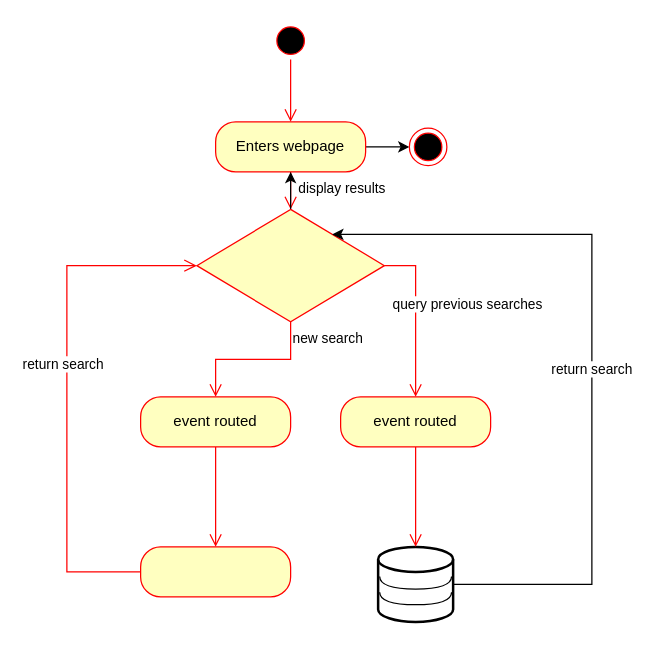
The diagram is 653 pixels wide and 645 high, and some of its shapes have lost their labels. Here are the shapes that lost their labels. From the top down, the centre of each, then its label:
(290,265): takes an action <<event handler>> app.py
(215,571): newsAPI finds relevant stories
